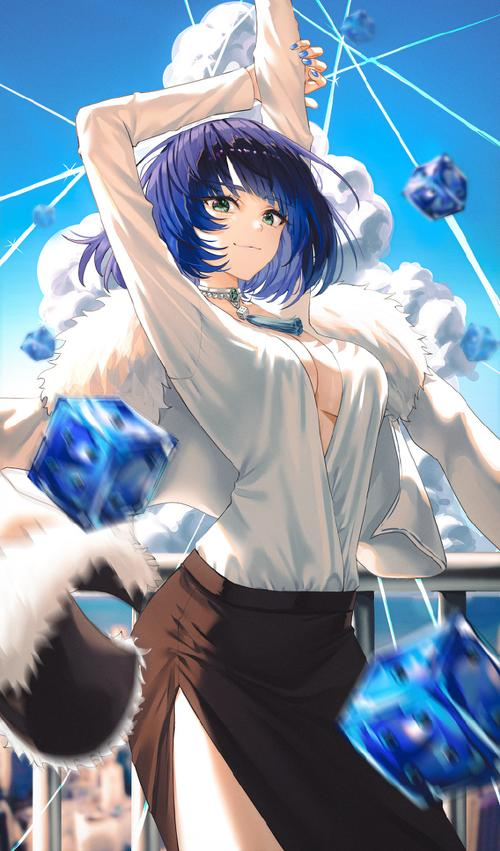夜兰: (73, 7, 462, 851)
